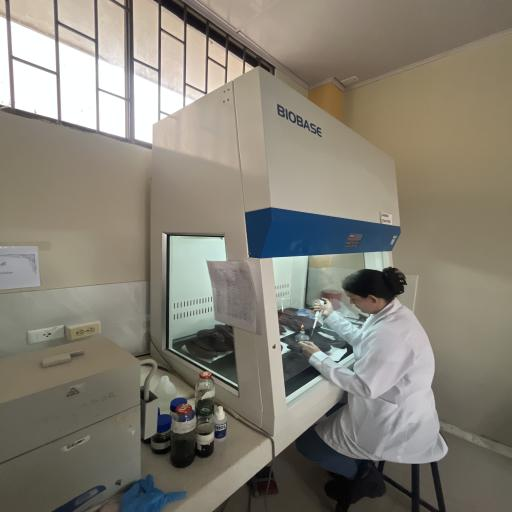Camara_Extractora_Biobase: (140, 58, 414, 450)
